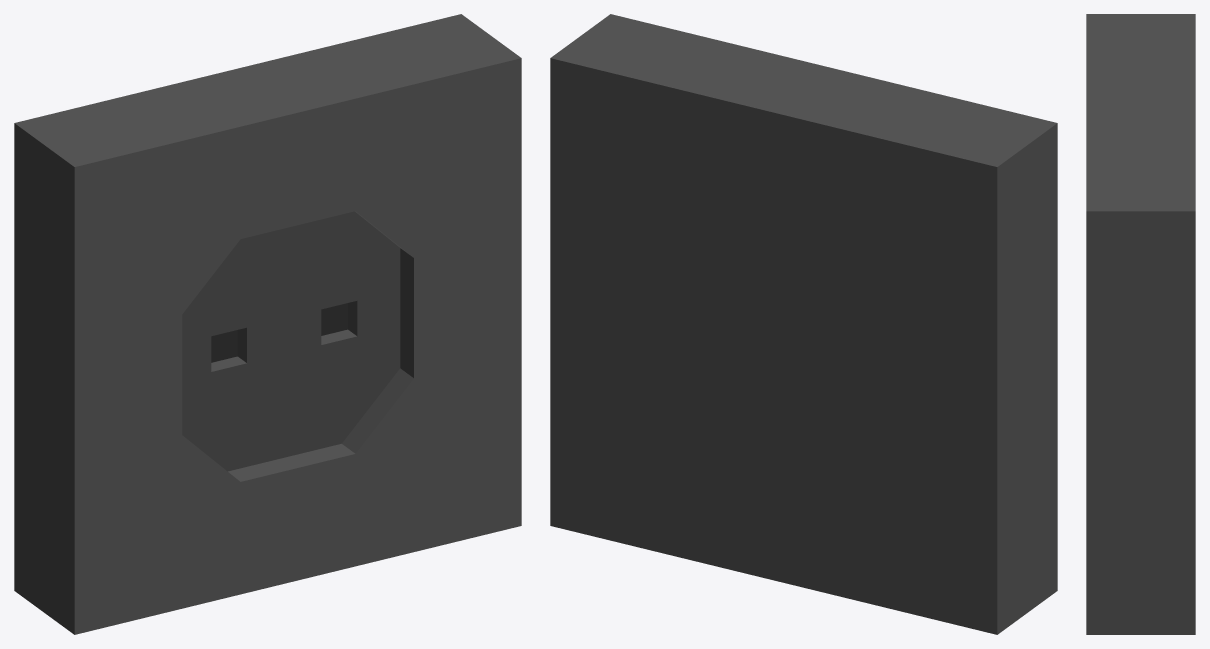
File: Socket1_C2.fbx
The picture shows the model from 3 angles, left to right: view 1: azimuth 30°, elevation 25°; view 2: azimuth 150°, elevation 25°; view 3: azimuth 270°, elevation 25°; orthographic projection. The views are drawn at different scales.
Parts seen in each view (by area): view 1: Socket1_C2; view 2: Socket1_C2; view 3: Socket1_C2.
Part boxes in pixels (<box>): Socket1_C2: <box>14,14,521,634</box>; Socket1_C2: <box>550,14,1057,634</box>; Socket1_C2: <box>1086,14,1195,634</box>.
Bounding box in the file's own units: 8.44 × 8.44 × 1.97.
